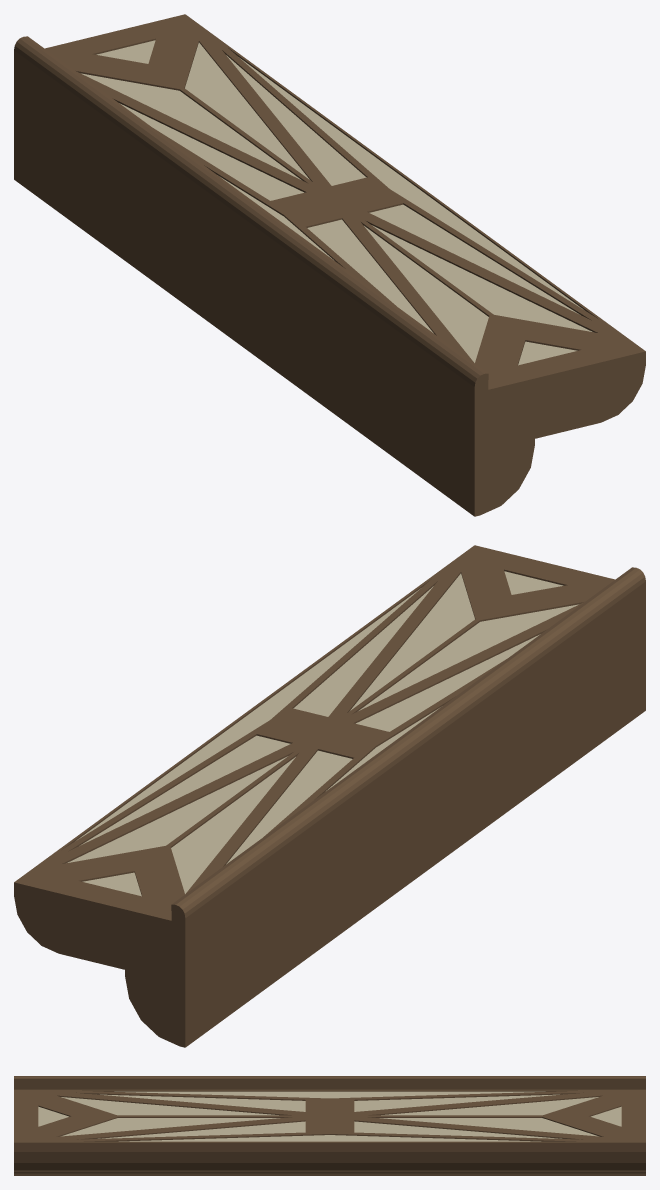
File: askılık.fbx
3 views of the same model, one above another, from view 1: azimuth 30°, elevation 25°; view 2: azimuth 150°, elevation 25°; view 3: azimuth 270°, elevation 25° (orthographic). The views are drawn at different scales.
Parts seen in each view (by area): view 1: Cube; view 2: Cube; view 3: Cube.
Part boxes in pixels (<box>): Cube: <box>14,14,645,516</box>; Cube: <box>14,545,645,1047</box>; Cube: <box>14,1076,645,1175</box>.
Bounding box in the file's own units: 567 × 445 × 2642.
